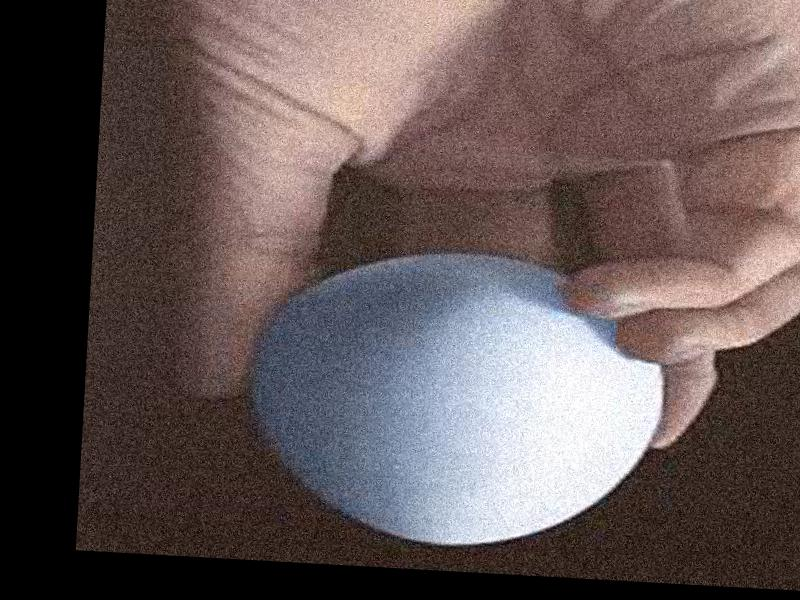Eggs: (246, 245, 674, 559)
